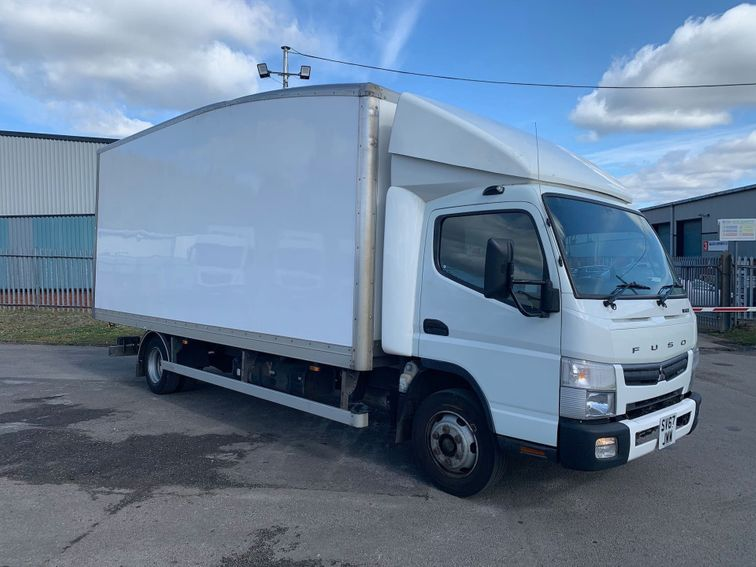Semi: (91, 82, 700, 499)
